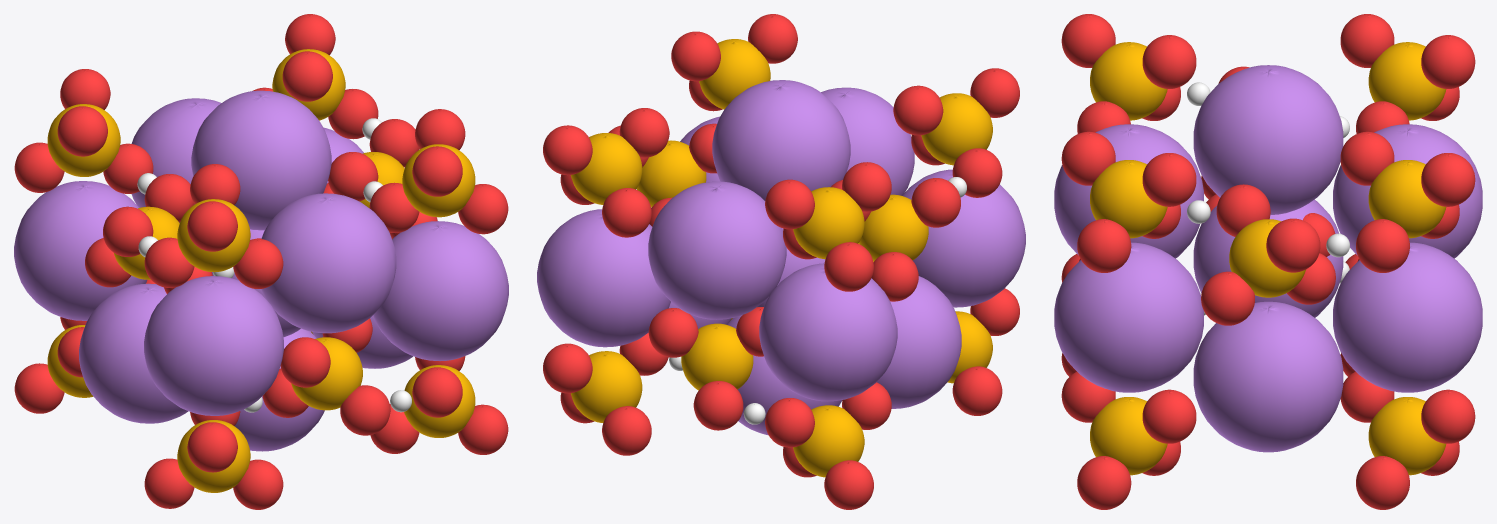
The model's file is KP(HO2)2_xyz_DAE_Convert.dae.
3 views of the same model, side by side, from view 1: azimuth 30°, elevation 25°; view 2: azimuth 150°, elevation 25°; view 3: azimuth 270°, elevation 25° (orthographic). The views are drawn at different scales.
Visible parts, largest first — view 1: Potassium|Ball (NURBS)_Potassium|Dupli|2.0.0.0.0.0.0.0.0, Potassium|Ball (NURBS)_Potassium|Dupli|6.0.0.0.0.0.0.0.0, Potassium|Ball (NURBS)_Potassium|Dupli|4.0.0.0.0.0.0.0.0, Potassium|Ball (NURBS)_Potassium|Dupli|9.0.0.0.0.0.0.0.0, Potassium|Ball (NURBS)_Potassium|Dupli|3.0.0.0.0.0.0.0.0, Potassium|Ball (NURBS)_Potassium|Dupli|0.0.0.0.0.0.0.0.0, Potassium|Ball (NURBS)_Potassium|Dupli|7.0.0.0.0.0.0.0.0, Potassium|Ball (NURBS)_Potassium|Dupli|8.0.0.0.0.0.0.0.0, Phosphorus|Ball (NURBS)_Phosphorus|Dupli|0.0.0.0.0.0.0.0.0, Phosphorus|Ball (NURBS)_Phosphorus|Dupli|7.0.0.0.0.0.0.0.0, Phosphorus|Ball (NURBS)_Phosphorus|Dupli|3.0.0.0.0.0.0.0.0, Phosphorus|Ball (NURBS)_Phosphorus|Dupli|2.0.0.0.0.0.0.0.0 (+40 smaller); view 2: Potassium|Ball (NURBS)_Potassium|Dupli|7.0.0.0.0.0.0.0.0, Potassium|Ball (NURBS)_Potassium|Dupli|3.0.0.0.0.0.0.0.0, Potassium|Ball (NURBS)_Potassium|Dupli|5.0.0.0.0.0.0.0.0, Potassium|Ball (NURBS)_Potassium|Dupli|9.0.0.0.0.0.0.0.0, Potassium|Ball (NURBS)_Potassium|Dupli|2.0.0.0.0.0.0.0.0, Potassium|Ball (NURBS)_Potassium|Dupli|0.0.0.0.0.0.0.0.0, Potassium|Ball (NURBS)_Potassium|Dupli|6.0.0.0.0.0.0.0.0, Phosphorus|Ball (NURBS)_Phosphorus|Dupli|1.0.0.0.0.0.0.0.0, Phosphorus|Ball (NURBS)_Phosphorus|Dupli|3.0.0.0.0.0.0.0.0, Phosphorus|Ball (NURBS)_Phosphorus|Dupli|4.0.0.0.0.0.0.0.0, Phosphorus|Ball (NURBS)_Phosphorus|Dupli|5.0.0.0.0.0.0.0.0, Phosphorus|Ball (NURBS)_Phosphorus|Dupli|8.0.0.0.0.0.0.0.0 (+32 smaller); view 3: Potassium|Ball (NURBS)_Potassium|Dupli|1.0.0.0.0.0.0.0.0, Potassium|Ball (NURBS)_Potassium|Dupli|5.0.0.0.0.0.0.0.0, Potassium|Ball (NURBS)_Potassium|Dupli|4.0.0.0.0.0.0.0.0, Potassium|Ball (NURBS)_Potassium|Dupli|9.0.0.0.0.0.0.0.0, Potassium|Ball (NURBS)_Potassium|Dupli|7.0.0.0.0.0.0.0.0, Potassium|Ball (NURBS)_Potassium|Dupli|6.0.0.0.0.0.0.0.0, Phosphorus|Ball (NURBS)_Phosphorus|Dupli|5.0.0.0.0.0.0.0.0, Phosphorus|Ball (NURBS)_Phosphorus|Dupli|3.0.0.0.0.0.0.0.0, Phosphorus|Ball (NURBS)_Phosphorus|Dupli|7.0.0.0.0.0.0.0.0, Phosphorus|Ball (NURBS)_Phosphorus|Dupli|9.0.0.0.0.0.0.0.0, Phosphorus|Ball (NURBS)_Phosphorus|Dupli|6.0.0.0.0.0.0.0.0, Phosphorus|Ball (NURBS)_Phosphorus|Dupli|8.0.0.0.0.0.0.0.0 (+31 smaller).
Part boxes in pixels (bbox=[...]): Potassium|Ball (NURBS)_Potassium|Dupli|2.0.0.0.0.0.0.0.0: bbox=[144, 276, 283, 415]; Potassium|Ball (NURBS)_Potassium|Dupli|6.0.0.0.0.0.0.0.0: bbox=[261, 193, 396, 333]; Potassium|Ball (NURBS)_Potassium|Dupli|4.0.0.0.0.0.0.0.0: bbox=[373, 221, 508, 360]; Potassium|Ball (NURBS)_Potassium|Dupli|9.0.0.0.0.0.0.0.0: bbox=[191, 90, 331, 230]; Potassium|Ball (NURBS)_Potassium|Dupli|3.0.0.0.0.0.0.0.0: bbox=[14, 181, 147, 320]; Potassium|Ball (NURBS)_Potassium|Dupli|0.0.0.0.0.0.0.0.0: bbox=[79, 283, 188, 423]; Potassium|Ball (NURBS)_Potassium|Dupli|7.0.0.0.0.0.0.0.0: bbox=[131, 98, 221, 222]; Potassium|Ball (NURBS)_Potassium|Dupli|8.0.0.0.0.0.0.0.0: bbox=[234, 328, 324, 451]; Phosphorus|Ball (NURBS)_Phosphorus|Dupli|0.0.0.0.0.0.0.0.0: bbox=[291, 337, 362, 410]; Phosphorus|Ball (NURBS)_Phosphorus|Dupli|7.0.0.0.0.0.0.0.0: bbox=[402, 144, 475, 217]; Phosphorus|Ball (NURBS)_Phosphorus|Dupli|3.0.0.0.0.0.0.0.0: bbox=[177, 199, 250, 272]; Phosphorus|Ball (NURBS)_Phosphorus|Dupli|2.0.0.0.0.0.0.0.0: bbox=[177, 420, 250, 492]; Potassium|Ball (NURBS)_Potassium|Dupli|7.0.0.0.0.0.0.0.0: bbox=[648, 181, 786, 319]; Potassium|Ball (NURBS)_Potassium|Dupli|3.0.0.0.0.0.0.0.0: bbox=[759, 263, 897, 401]; Potassium|Ball (NURBS)_Potassium|Dupli|5.0.0.0.0.0.0.0.0: bbox=[537, 209, 670, 347]; Potassium|Ball (NURBS)_Potassium|Dupli|9.0.0.0.0.0.0.0.0: bbox=[712, 80, 850, 200]; Potassium|Ball (NURBS)_Potassium|Dupli|2.0.0.0.0.0.0.0.0: bbox=[902, 169, 1025, 307]; Potassium|Ball (NURBS)_Potassium|Dupli|0.0.0.0.0.0.0.0.0: bbox=[877, 276, 961, 408]; Potassium|Ball (NURBS)_Potassium|Dupli|6.0.0.0.0.0.0.0.0: bbox=[821, 87, 914, 195]; Phosphorus|Ball (NURBS)_Phosphorus|Dupli|1.0.0.0.0.0.0.0.0: bbox=[681, 323, 753, 390]; Phosphorus|Ball (NURBS)_Phosphorus|Dupli|3.0.0.0.0.0.0.0.0: bbox=[921, 93, 992, 165]; Phosphorus|Ball (NURBS)_Phosphorus|Dupli|4.0.0.0.0.0.0.0.0: bbox=[793, 405, 864, 477]; Phosphorus|Ball (NURBS)_Phosphorus|Dupli|5.0.0.0.0.0.0.0.0: bbox=[793, 187, 864, 259]; Phosphorus|Ball (NURBS)_Phosphorus|Dupli|8.0.0.0.0.0.0.0.0: bbox=[571, 351, 642, 422]; Potassium|Ball (NURBS)_Potassium|Dupli|1.0.0.0.0.0.0.0.0: bbox=[1193, 301, 1343, 451]; Potassium|Ball (NURBS)_Potassium|Dupli|5.0.0.0.0.0.0.0.0: bbox=[1333, 242, 1482, 392]; Potassium|Ball (NURBS)_Potassium|Dupli|4.0.0.0.0.0.0.0.0: bbox=[1054, 242, 1203, 392]; Potassium|Ball (NURBS)_Potassium|Dupli|9.0.0.0.0.0.0.0.0: bbox=[1193, 65, 1343, 214]; Potassium|Ball (NURBS)_Potassium|Dupli|7.0.0.0.0.0.0.0.0: bbox=[1333, 124, 1482, 258]; Potassium|Ball (NURBS)_Potassium|Dupli|6.0.0.0.0.0.0.0.0: bbox=[1054, 124, 1203, 258]; Phosphorus|Ball (NURBS)_Phosphorus|Dupli|5.0.0.0.0.0.0.0.0: bbox=[1368, 42, 1446, 120]; Phosphorus|Ball (NURBS)_Phosphorus|Dupli|3.0.0.0.0.0.0.0.0: bbox=[1090, 42, 1167, 120]; Phosphorus|Ball (NURBS)_Phosphorus|Dupli|7.0.0.0.0.0.0.0.0: bbox=[1090, 160, 1167, 238]; Phosphorus|Ball (NURBS)_Phosphorus|Dupli|9.0.0.0.0.0.0.0.0: bbox=[1368, 160, 1446, 238]; Phosphorus|Ball (NURBS)_Phosphorus|Dupli|6.0.0.0.0.0.0.0.0: bbox=[1090, 397, 1167, 475]; Phosphorus|Ball (NURBS)_Phosphorus|Dupli|8.0.0.0.0.0.0.0.0: bbox=[1368, 397, 1446, 475].
Bounding box in the file's own units: 11.57 × 11.57 × 11.12.
